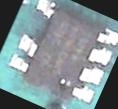ic: (1, 0, 118, 109)
